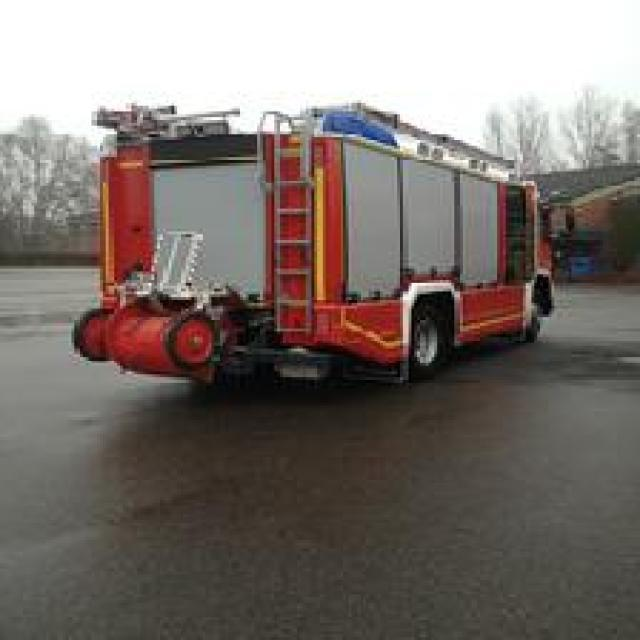emergency: (68, 95, 568, 392)
